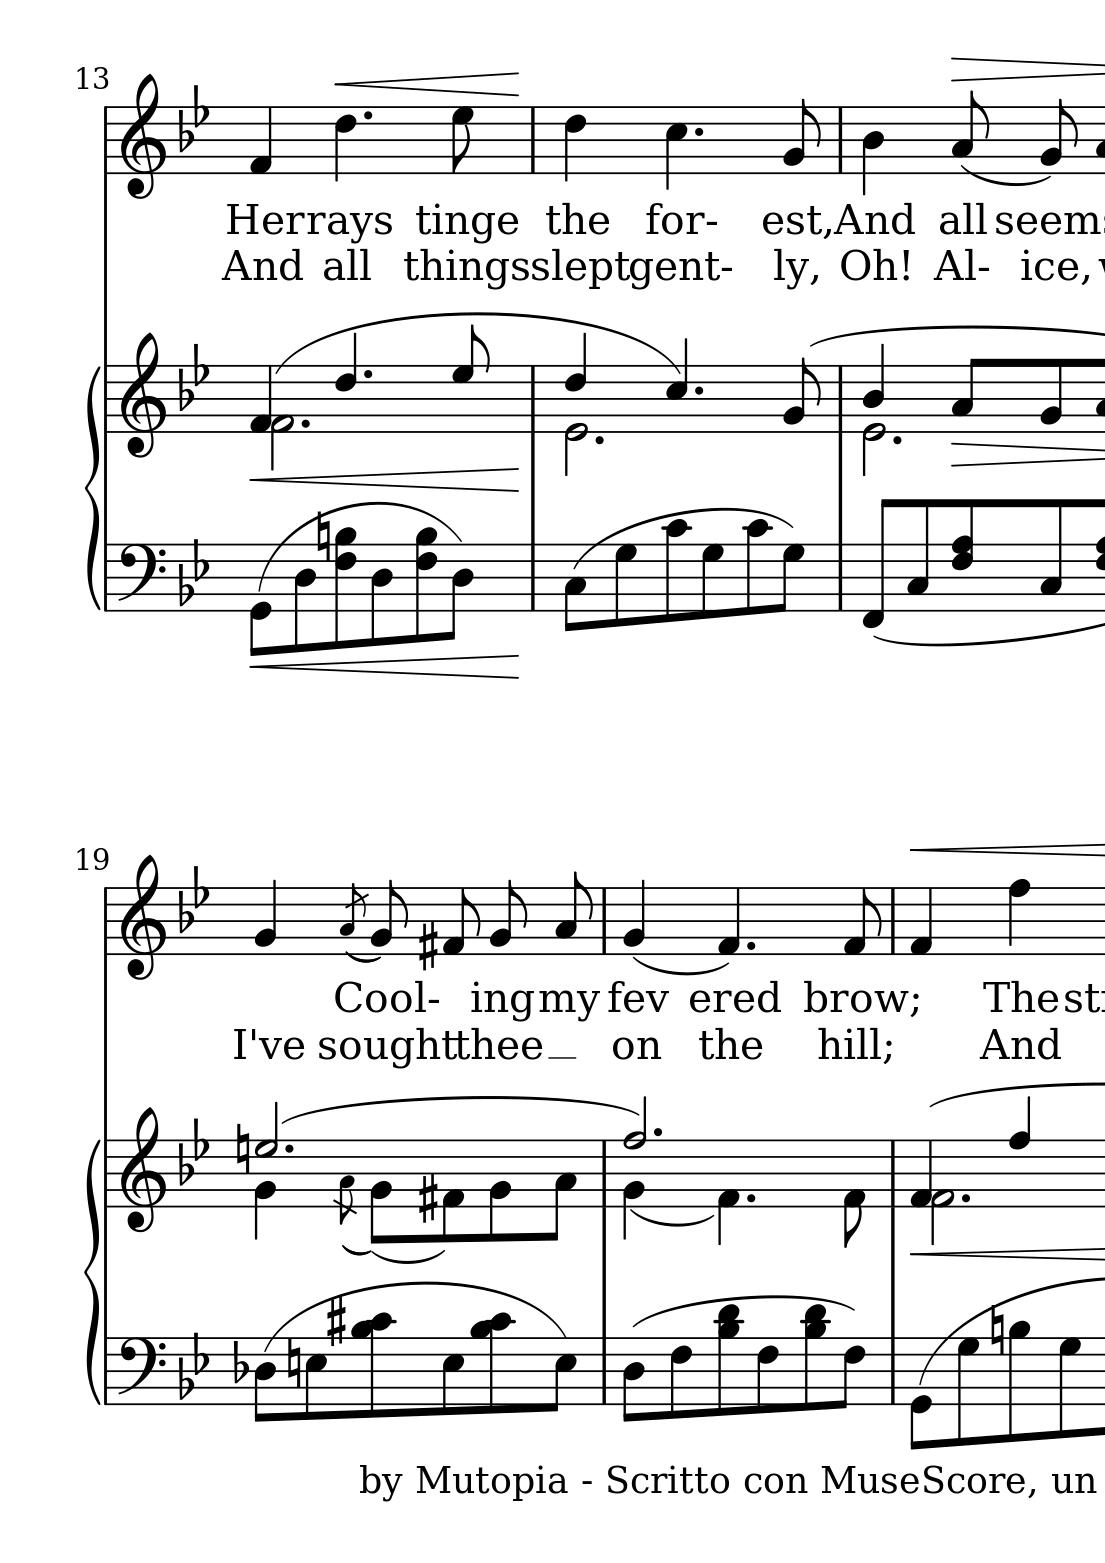1: (75, 845, 88, 874), (75, 65, 88, 92)
2_0: (564, 364, 590, 474)
2_1: (271, 366, 297, 469), (932, 1138, 954, 1245), (908, 1138, 932, 1209)
3: (92, 63, 109, 92)
4_1: (715, 1137, 740, 1246), (906, 884, 934, 957), (715, 885, 741, 957), (248, 105, 273, 176), (248, 364, 271, 434)
4_2: (621, 877, 647, 955), (254, 878, 277, 955)
4_4: (862, 343, 887, 436), (860, 105, 884, 196)
4_5: (663, 336, 689, 436), (663, 105, 688, 193)
4_6: (564, 331, 591, 435), (332, 330, 358, 435), (332, 105, 358, 184), (562, 105, 586, 183)
4_8: (1005, 877, 1031, 957)
8_-1: (857, 497, 895, 631)
8_0: (909, 1336, 933, 1451), (249, 543, 271, 657)
8_1: (841, 886, 883, 955), (840, 1136, 865, 1250), (441, 886, 481, 955), (439, 1137, 464, 1246)
8_10: (663, 518, 690, 624), (743, 519, 769, 617)
8_2: (781, 97, 820, 175), (1038, 98, 1077, 176), (488, 878, 527, 955), (782, 356, 820, 435), (370, 879, 408, 955), (368, 1138, 393, 1245), (487, 1138, 512, 1243), (1037, 358, 1064, 436)
8_3: (950, 88, 990, 177), (552, 871, 593, 957), (1037, 496, 1066, 616), (545, 1137, 576, 1243), (904, 497, 932, 615), (950, 358, 983, 436), (561, 542, 587, 634)
8_4: (442, 543, 474, 642), (368, 541, 393, 649), (292, 541, 315, 654), (619, 1335, 646, 1424), (252, 1336, 276, 1423)
8_5: (544, 1337, 576, 1414), (303, 1336, 326, 1422), (440, 1336, 464, 1418)
8_6: (834, 1335, 865, 1411), (667, 1336, 692, 1422), (753, 1336, 779, 1416)
8_6_8: (951, 497, 975, 612)
8_6_9: (413, 527, 439, 643), (332, 526, 356, 651)
8_7: (451, 325, 490, 434), (1056, 1335, 1083, 1440), (954, 1335, 979, 1447), (773, 543, 805, 615), (612, 542, 637, 629), (700, 542, 724, 619), (448, 105, 474, 176)
8_8: (1007, 1093, 1032, 1210)
8_9: (1006, 1319, 1031, 1445)
8_9_10: (350, 1312, 398, 1419), (469, 1311, 515, 1415)
8_9_11: (799, 1303, 830, 1412), (714, 1302, 741, 1417)
9: (90, 844, 109, 873)
Acciaccature: (340, 883, 367, 964)
B_F: (177, 1330, 210, 1402), (176, 537, 209, 608), (176, 83, 209, 152), (176, 342, 209, 411), (176, 863, 209, 933), (178, 1115, 210, 1186)
Brace: (83, 361, 103, 610), (84, 1135, 102, 1408)
Crescendo_hairpin: (249, 468, 521, 497), (249, 654, 521, 679), (335, 71, 520, 96)
Fclef: (115, 541, 165, 613), (115, 1335, 165, 1406)
Flat: (231, 1338, 248, 1385)
Gclef: (118, 851, 165, 981), (118, 1106, 165, 1235), (118, 71, 164, 201), (118, 331, 164, 459)
Natural: (234, 1121, 251, 1177), (315, 509, 331, 564), (285, 1337, 301, 1388), (989, 1305, 1005, 1356)
Sharp: (416, 920, 439, 972), (324, 1295, 347, 1348), (416, 1172, 436, 1225)
Single_barline: (596, 1337, 613, 1405), (884, 1337, 902, 1405), (831, 106, 848, 173), (524, 366, 541, 433), (524, 544, 541, 611), (885, 887, 902, 954), (524, 106, 541, 172), (831, 367, 848, 433), (596, 1141, 612, 1207), (596, 889, 612, 953), (832, 544, 848, 612), (97, 106, 112, 173), (885, 1140, 901, 1207), (98, 889, 112, 954), (100, 1140, 114, 1208), (100, 366, 114, 433), (100, 1338, 114, 1404), (100, 544, 112, 611)
Slur: (280, 1095, 640, 1123), (633, 1295, 862, 1327), (631, 955, 728, 976), (630, 1210, 709, 1228), (376, 1247, 444, 1264), (342, 950, 384, 964), (338, 1243, 371, 1256)
dot: (360, 108, 376, 123), (690, 124, 706, 140), (889, 432, 904, 447), (958, 1190, 973, 1205), (360, 366, 374, 381), (743, 1191, 758, 1205), (691, 383, 706, 397), (298, 416, 312, 431), (592, 432, 606, 446), (281, 1142, 295, 1155), (744, 938, 756, 952), (651, 1127, 664, 1138)
